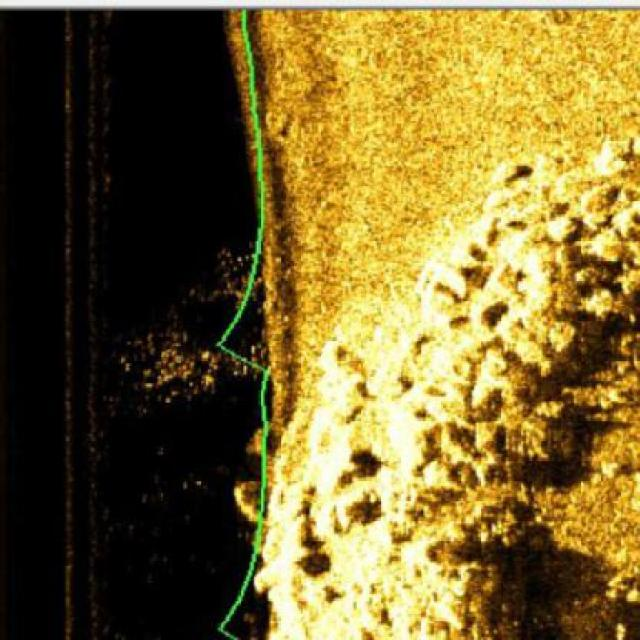bedrock group: (252, 138, 639, 639)
